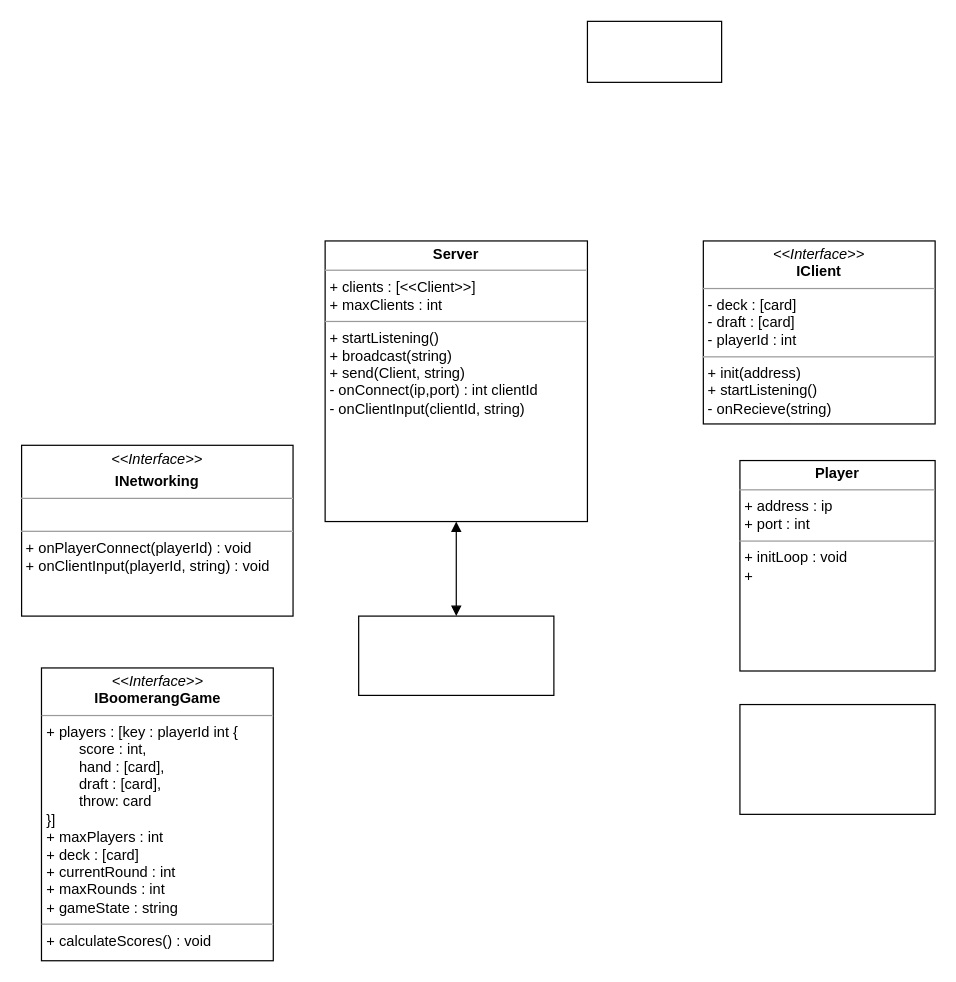
Some shapes in this 956 by 982 pixel diagram are drawn without their labels. The shapes that lost their labels are listed below. From the top down, each one's centre as x and y in pixels, then its label:
At pixel 654 51: "Main".
At pixel 455 655: "BoomerangAustralia".
At pixel 837 758: "Bot".
